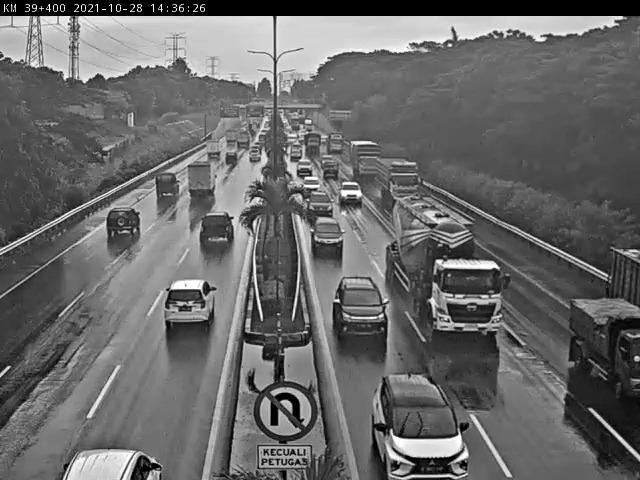big truck: (385, 197, 504, 337), (375, 158, 423, 205), (186, 163, 216, 199)
car: (371, 374, 473, 480), (330, 272, 388, 333), (163, 277, 216, 328), (312, 217, 346, 255), (198, 211, 236, 244), (105, 207, 140, 237), (306, 189, 334, 217), (154, 170, 180, 199), (339, 182, 363, 205), (302, 174, 322, 194), (322, 159, 340, 176)
